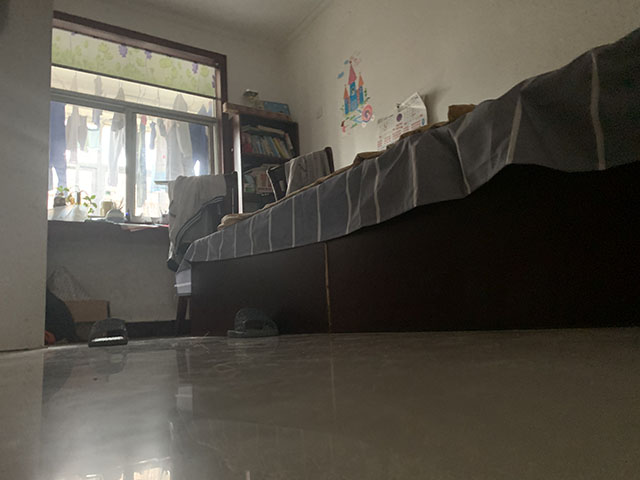bed: (173, 24, 640, 339)
slippers: (226, 306, 280, 339), (87, 317, 129, 349)
